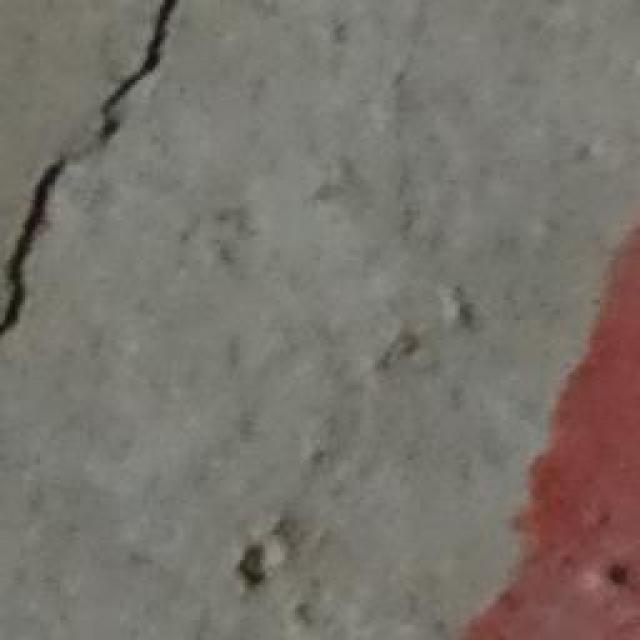Diagonal: (0, 0, 190, 402)
